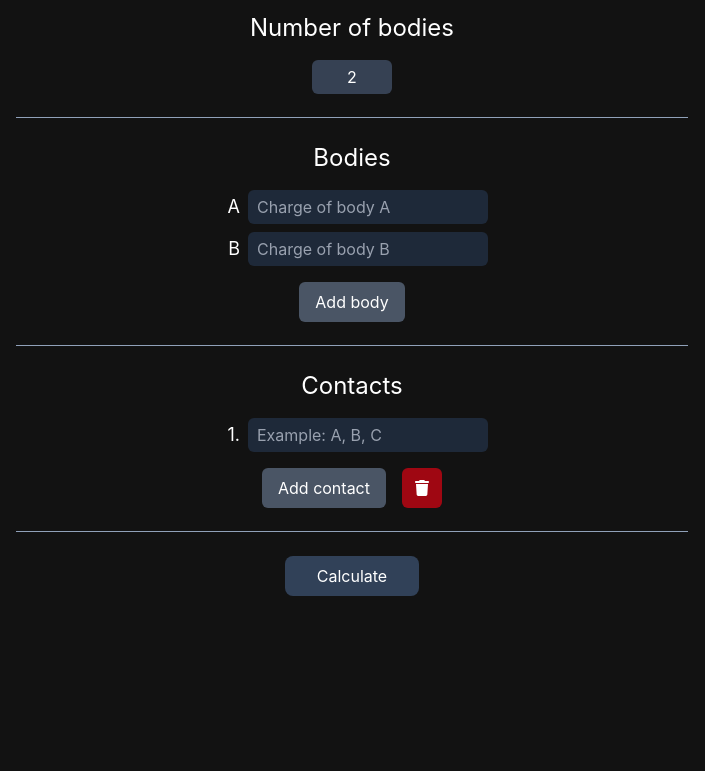
Test: Calculator › calculates the contacts and the total charge
Step 1. Type "1" into the field labelled "A" → (368, 207), box [248,190,488,224]
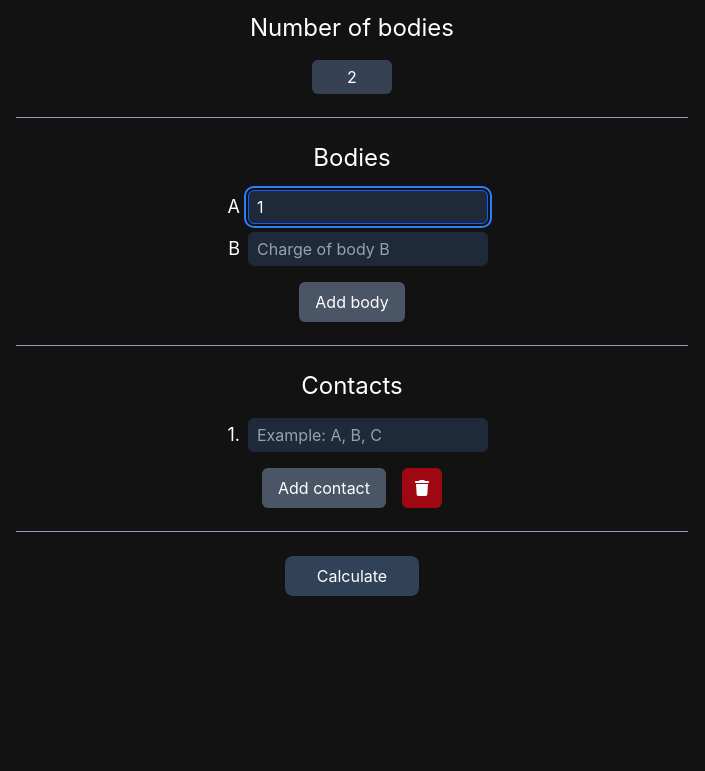
Step 2. Type "0" into the field labelled "B" → (368, 249), box [248,232,488,266]
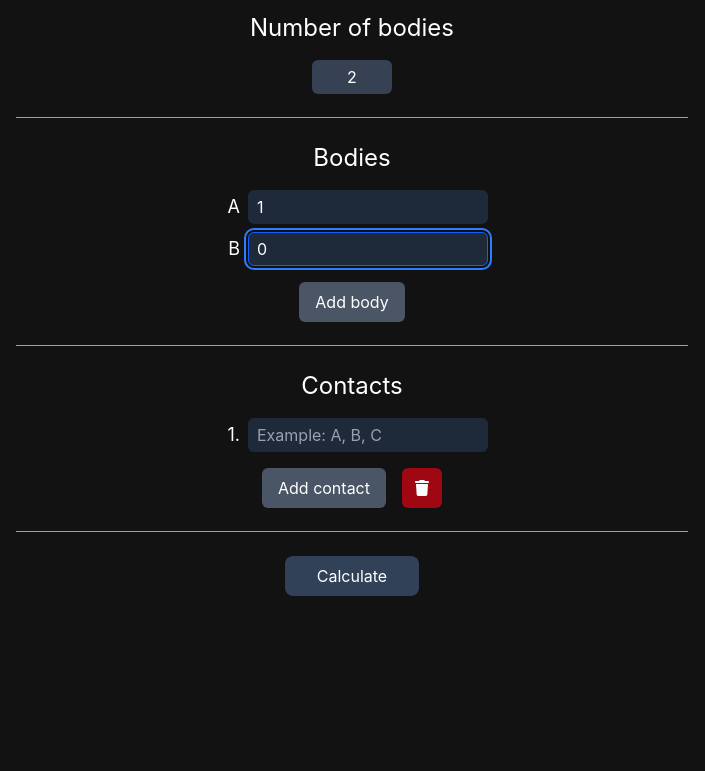
Step 3. Type "A, B" into the field named "Contact 1" → (368, 435), box [248,418,488,452]
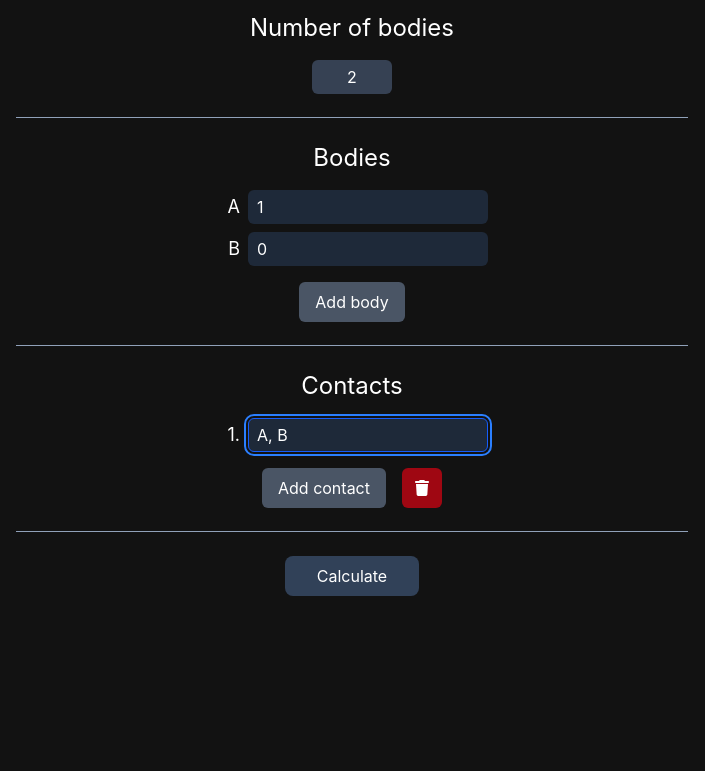
Step 4. Click the button "Calculate" → (352, 576), box [285,556,419,596]
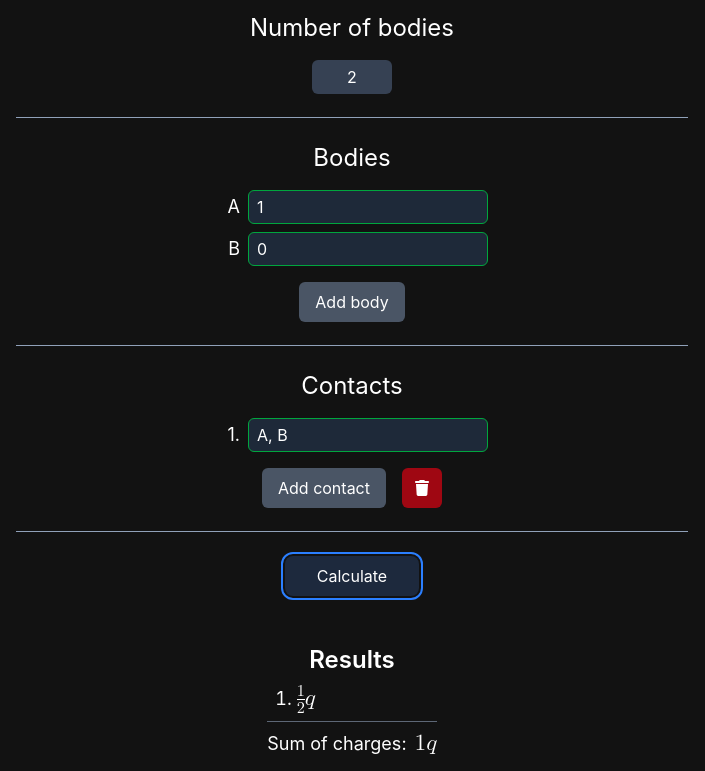
expect the element showing "1 2" is shown: met, box [297,684,305,713]
